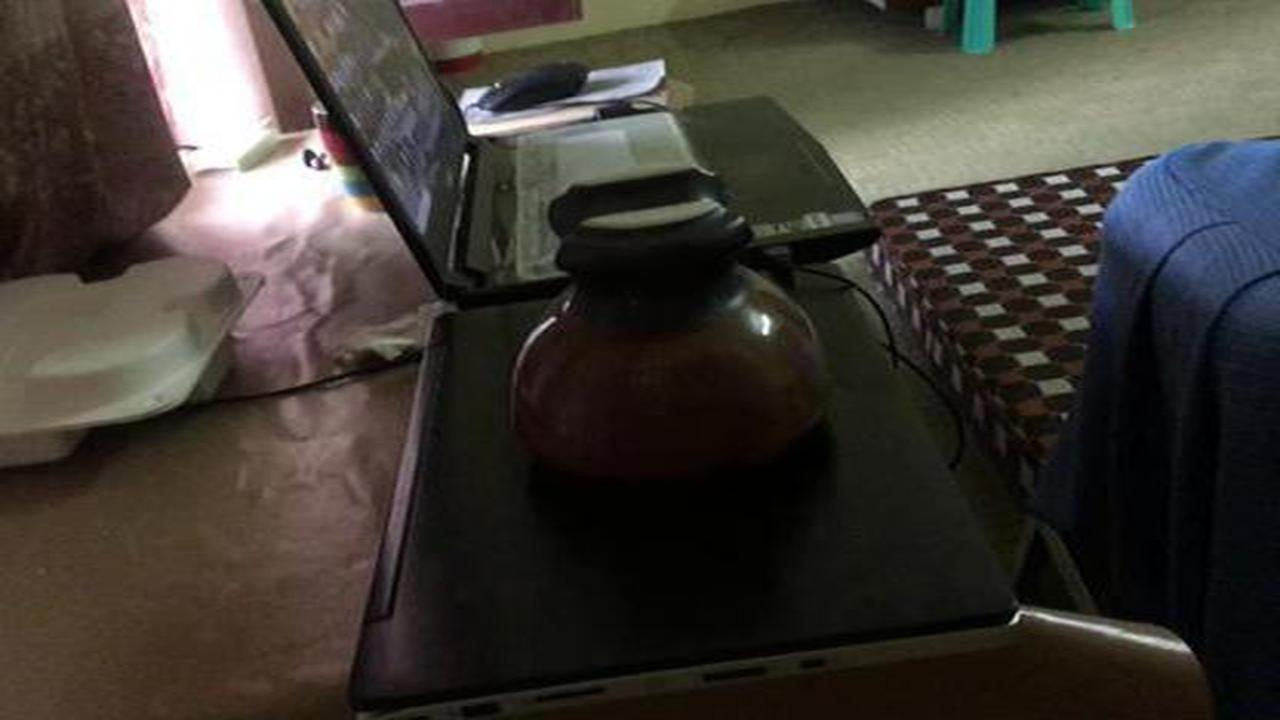insulator_pin: (493, 155, 862, 530)
